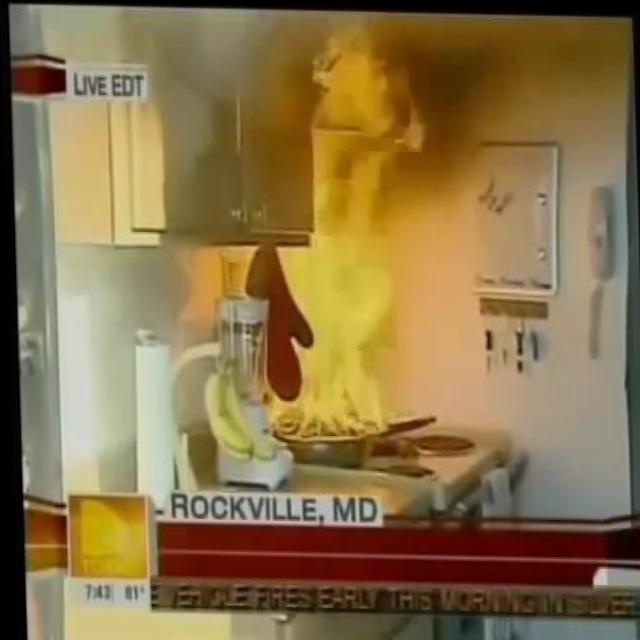fire: (255, 16, 431, 437)
